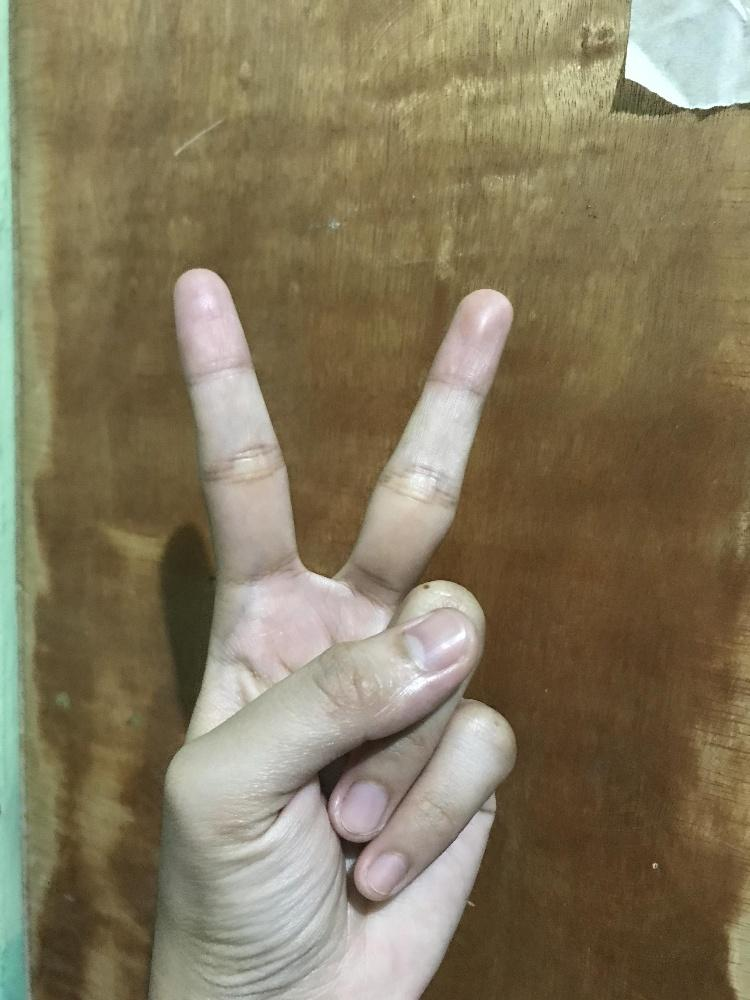v: (154, 264, 525, 999)
